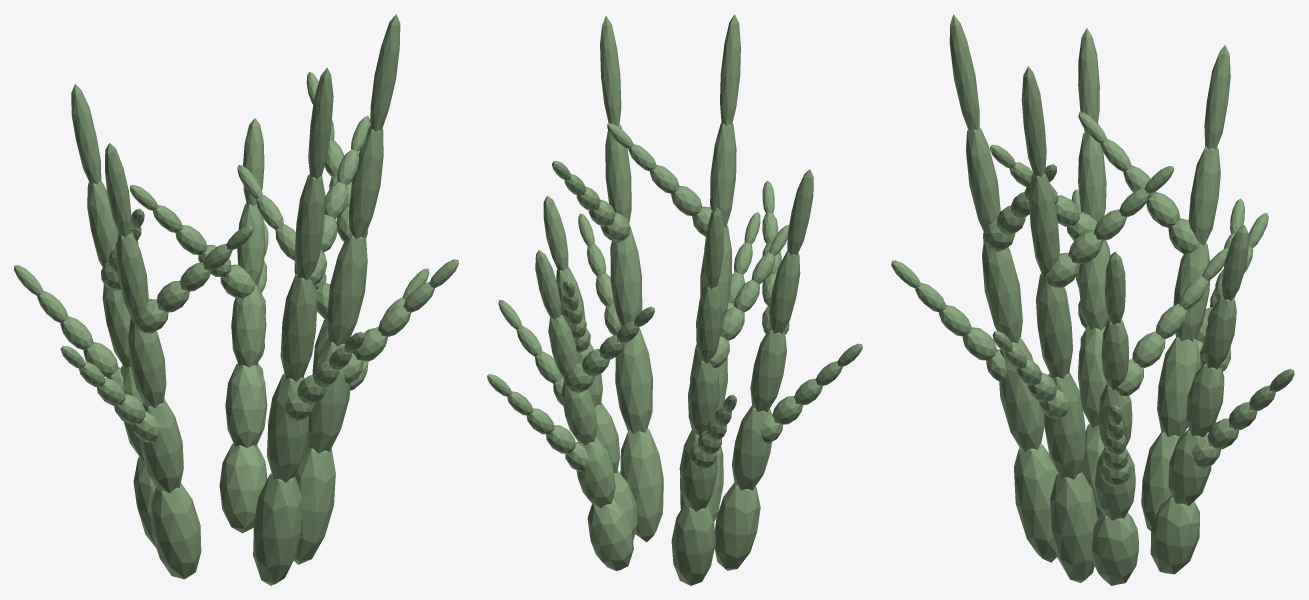
3 renders of one model, left to right at view 1: azimuth 30°, elevation 25°; view 2: azimuth 150°, elevation 25°; view 3: azimuth 270°, elevation 25°, orthographic. The views are drawn at different scales.
Parts seen in each view (by area): view 1: CE-014 Succulent saltmarsh samphire batched; view 2: CE-014 Succulent saltmarsh samphire batched; view 3: CE-014 Succulent saltmarsh samphire batched.
Boxes of the visible parts, x1,y1,x2,y2 form: CE-014 Succulent saltmarsh samphire batched: [14, 14, 458, 585]; CE-014 Succulent saltmarsh samphire batched: [487, 14, 862, 585]; CE-014 Succulent saltmarsh samphire batched: [891, 14, 1294, 585].
Bounding box in the file's own units: 0.2361 × 0.3224 × 0.2133.
